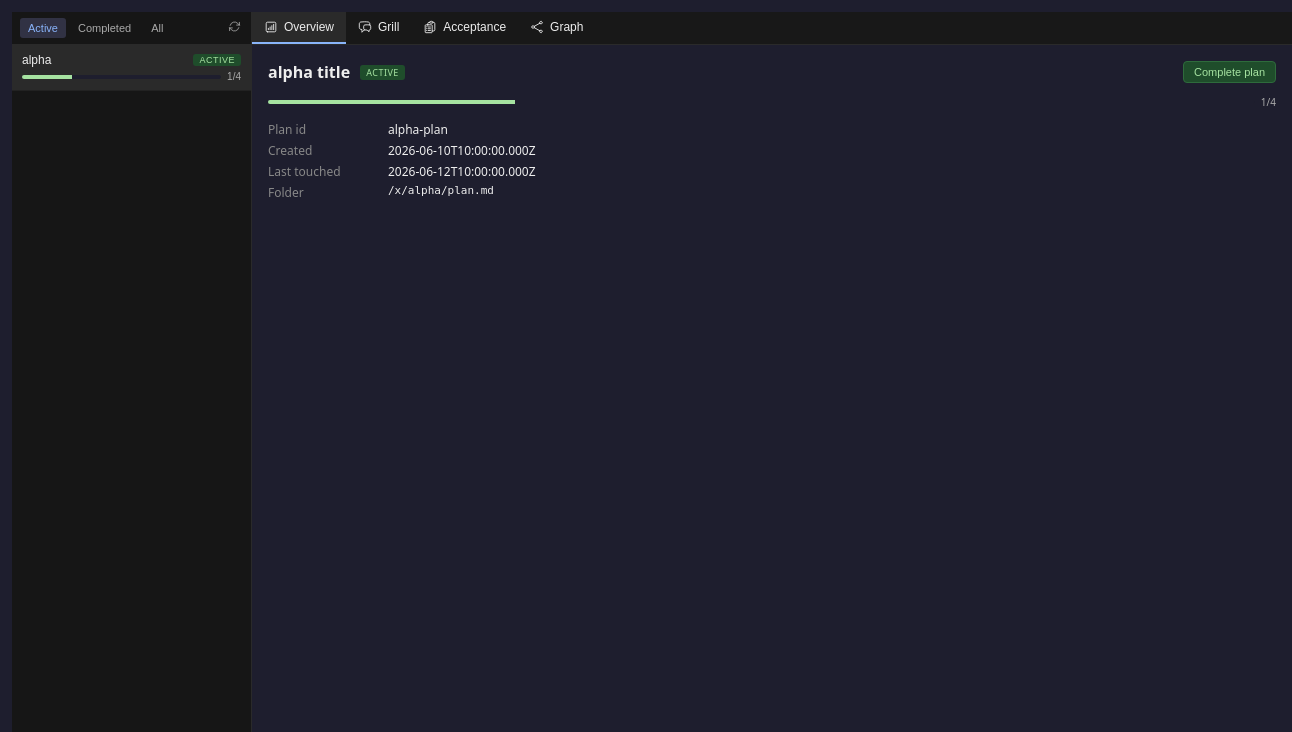
Test case: PlanTile acceptance tab › shows the tab, and the tests, when a feature has them
Click the button with test id "plan-tab-acceptance" at (465, 28), box [411,12,518,44]
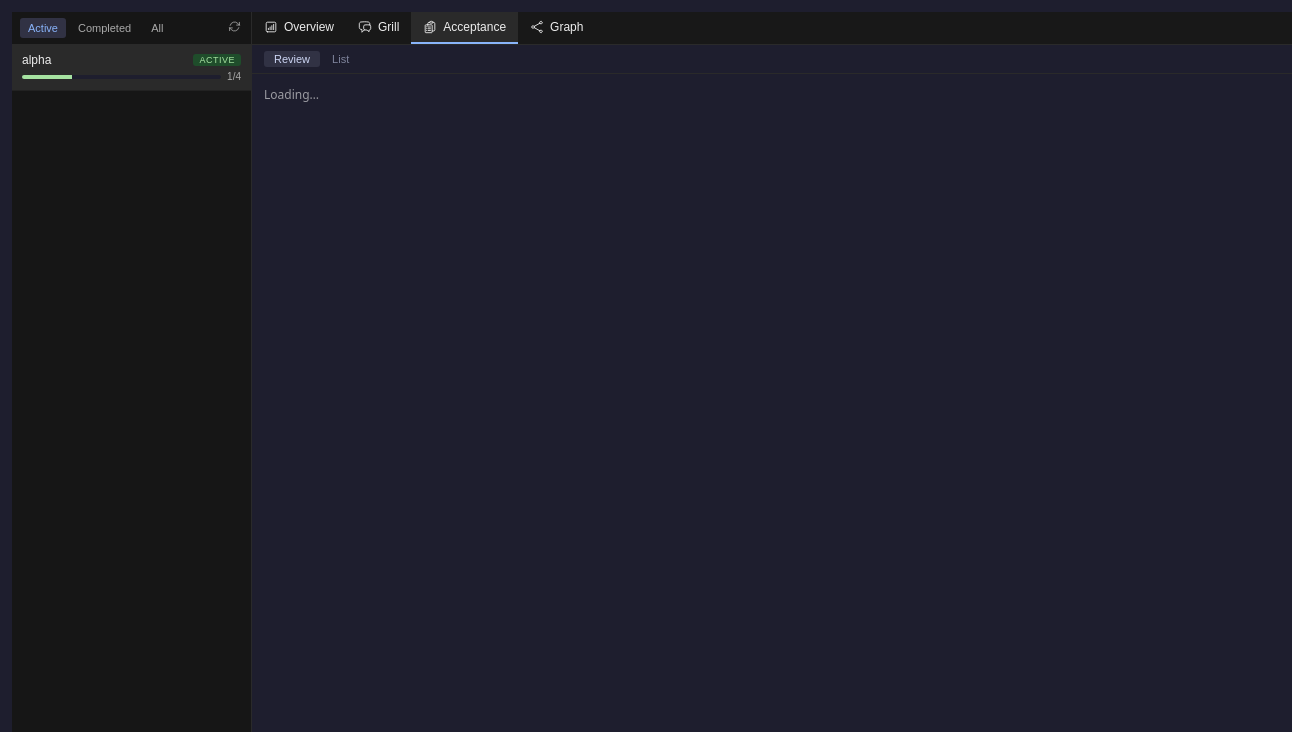
Click the radio button with test id "acceptance-mode-list" at (341, 59), box [322,51,359,67]
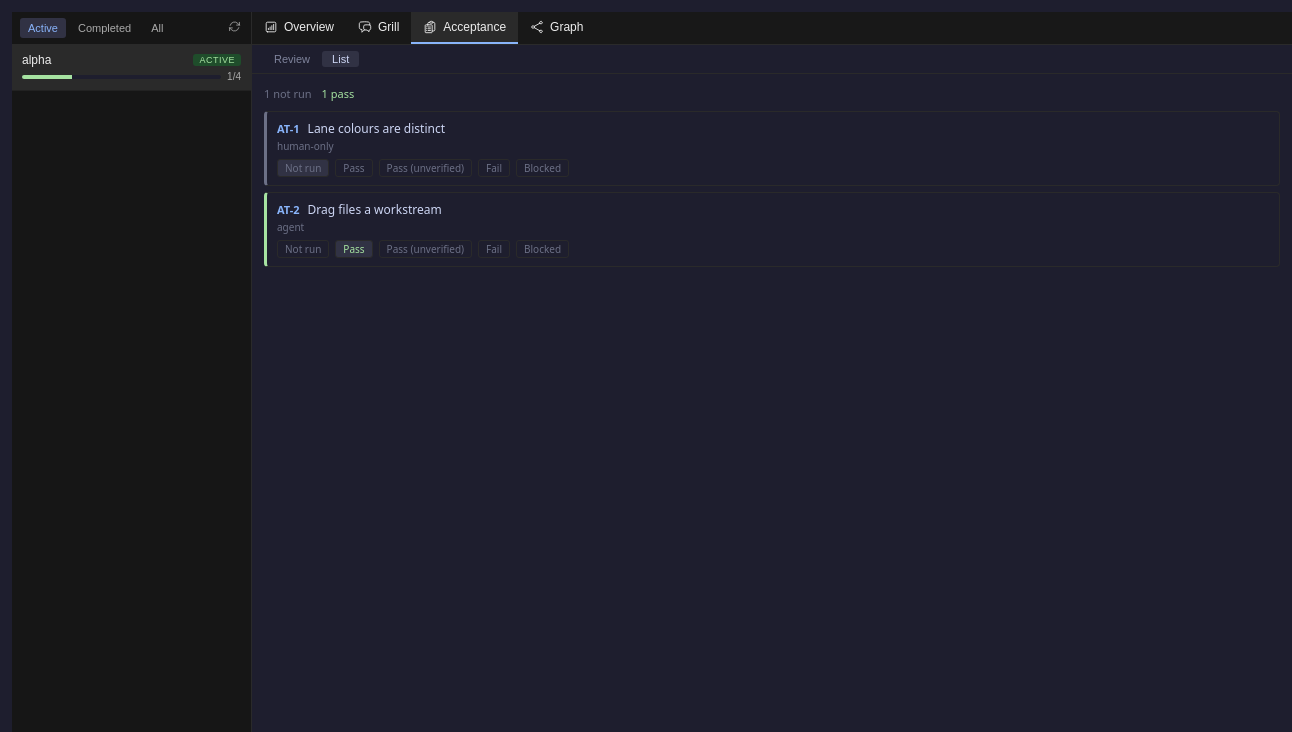
Now the text "Lane colours are distinct" is shown, box [308,120,445,137]
Now the text with test id "acceptance-automation-AT-1" reads "human-only", box [277,139,334,153]
Now the element with test id "acceptance-summary" shows "1 pass", box [264,86,354,101]
